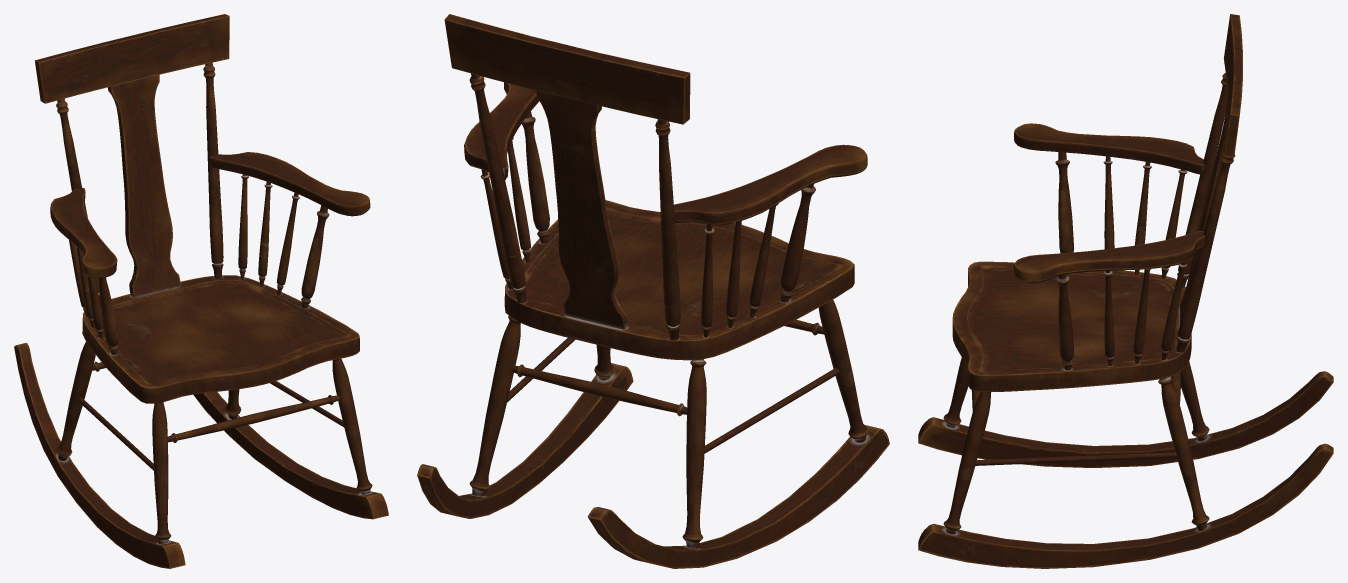
Rendered from rocking-chair-ph.glb.
The picture shows the model from 3 angles, left to right: view 1: azimuth 30°, elevation 25°; view 2: azimuth 150°, elevation 25°; view 3: azimuth 270°, elevation 25°; orthographic projection. The views are drawn at different scales.
Visible parts, largest first — view 1: Rockingchair_01; view 2: Rockingchair_01; view 3: Rockingchair_01.
Boxes of the visible parts, <box> form: Rockingchair_01: <box>14,14,388,568</box>; Rockingchair_01: <box>417,14,889,568</box>; Rockingchair_01: <box>918,14,1333,568</box>.
Bounding box in the file's own units: 0.7081 × 0.9949 × 0.8335.
Materials: 1 (1 with a texture image).
